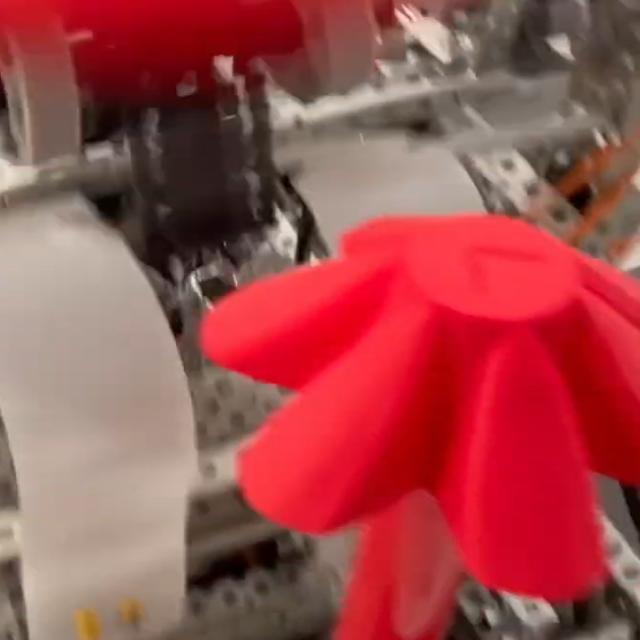zred-Stake-Head: (201, 214, 640, 600)
